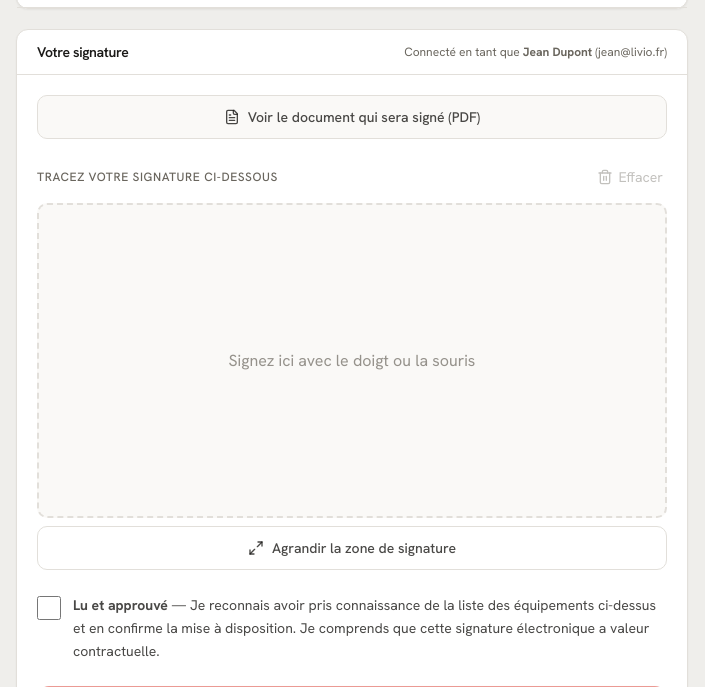
Test: SignaturePage › disables the "Signer" button until the canvas has a stroke AND "lu et approuvé" is checked
(page scrolled)
Press the mouse on the drawing: (352,360) [39,205,665,516]
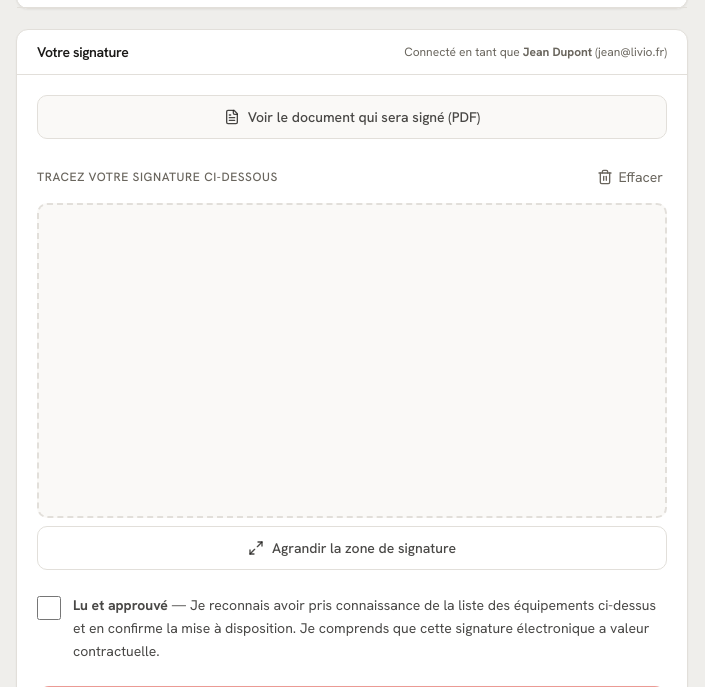
Click the checkbox: (49,608) [37,596,61,620]
(page scrolled)
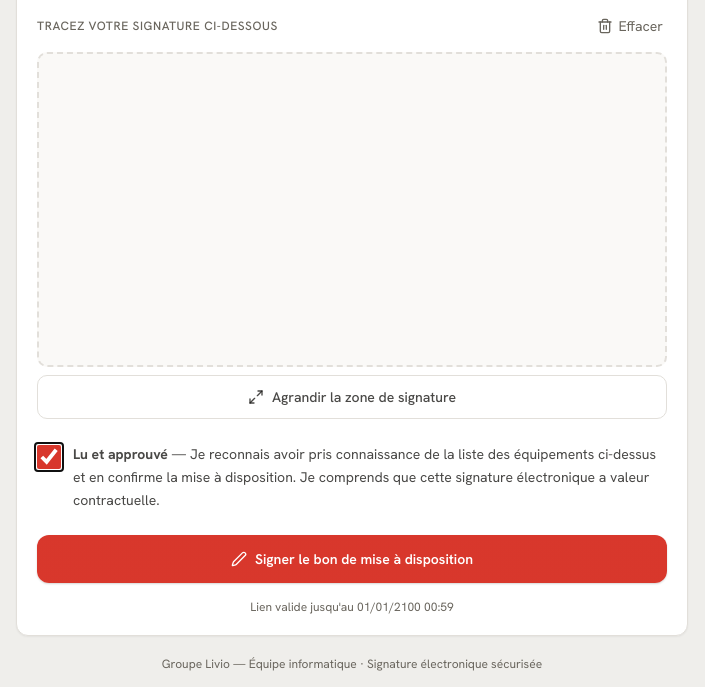
Now the button "Signer le bon de mise à disposition" is enabled, box [37,535,667,583]
